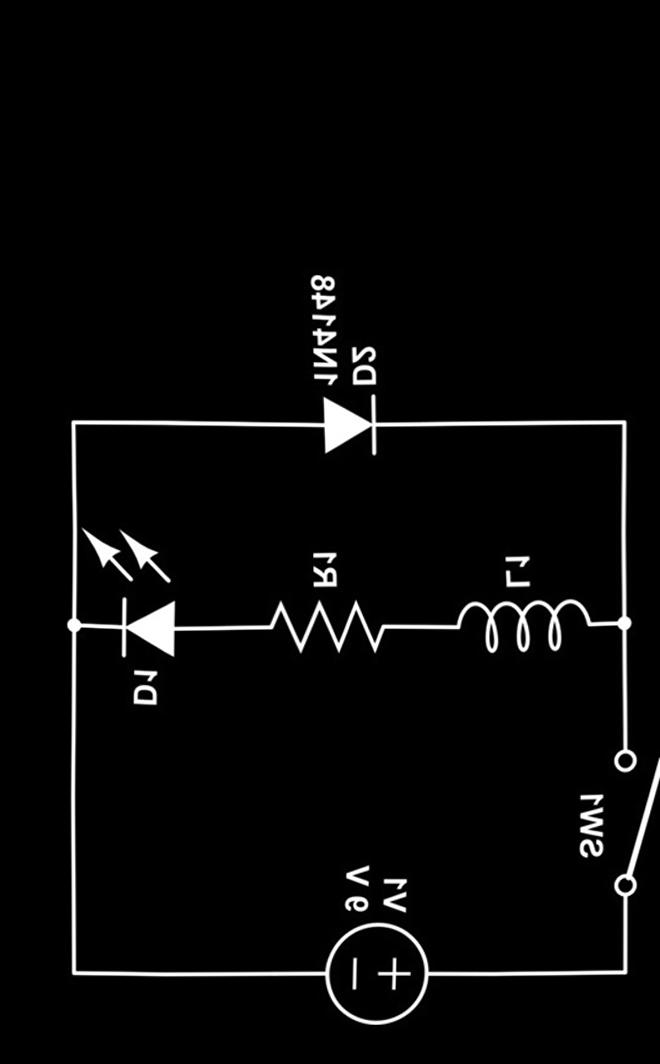Battery: (283, 895, 450, 1034)
